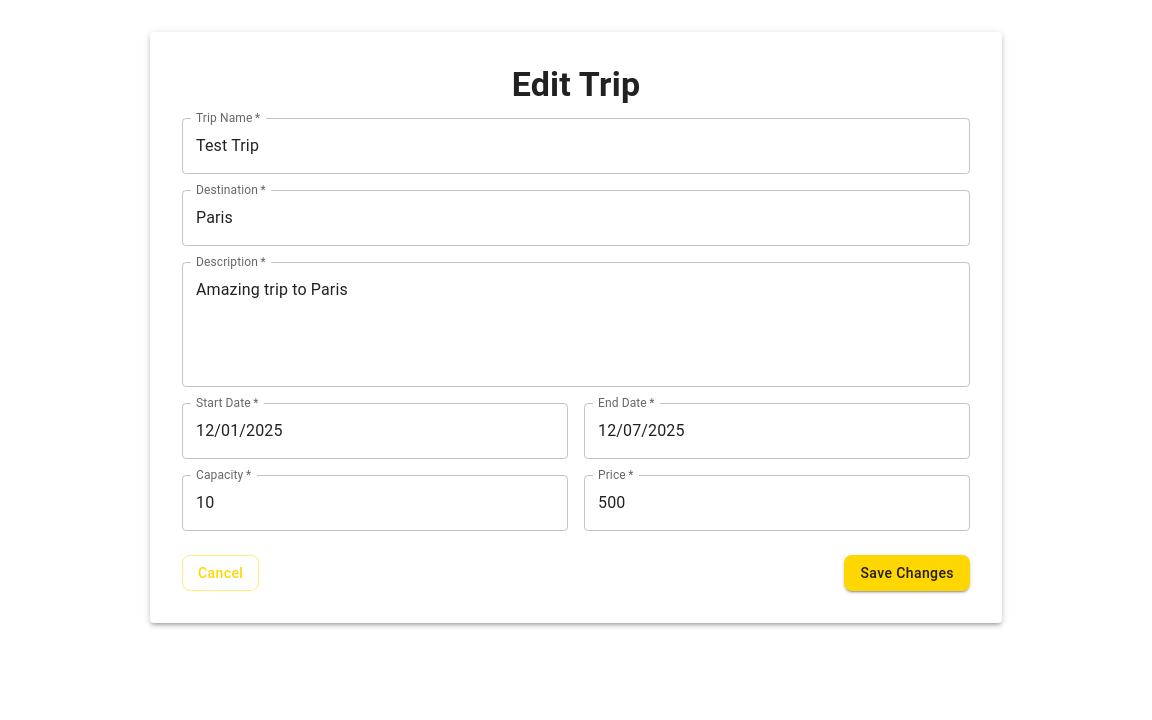
Test: EditTrip Component › Form Submission › should handle submission error
Expected: the field showing "Test Trip" is shown, top-left (182, 118), bottom-right (970, 174)
Click the button "Save Changes".
click(907, 573)  # box top-left (844, 555), bottom-right (970, 591)
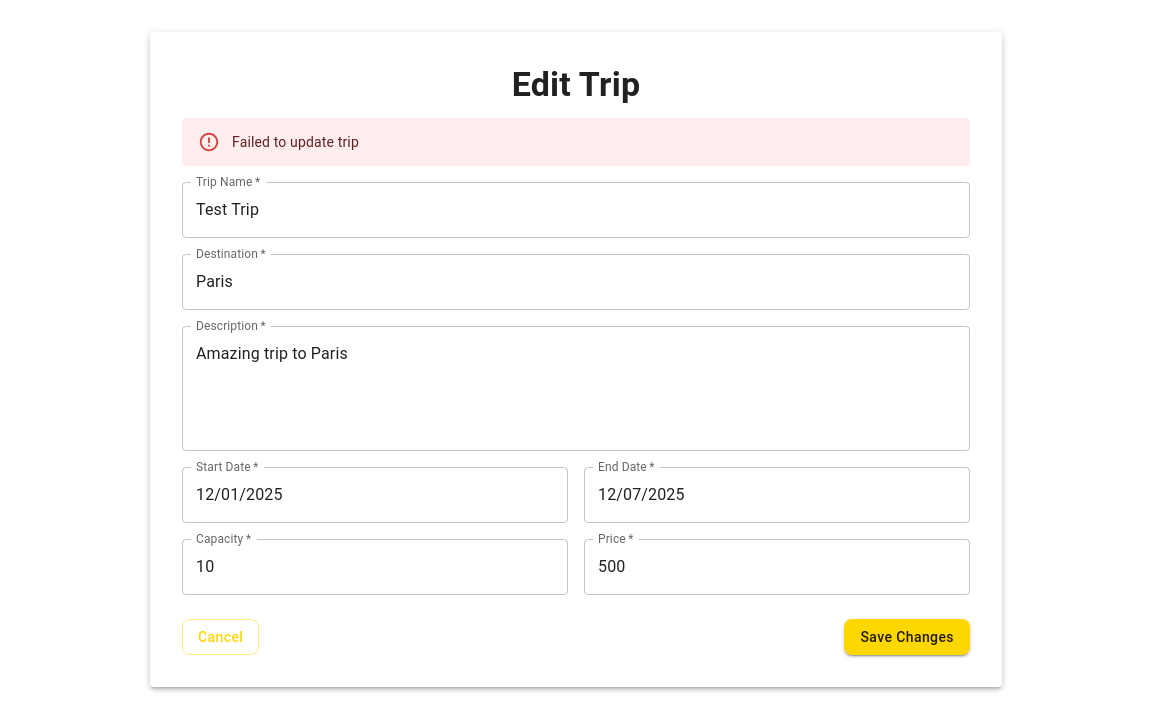
Expected: the text "Failed to update trip" is shown, top-left (232, 134), bottom-right (359, 150)
